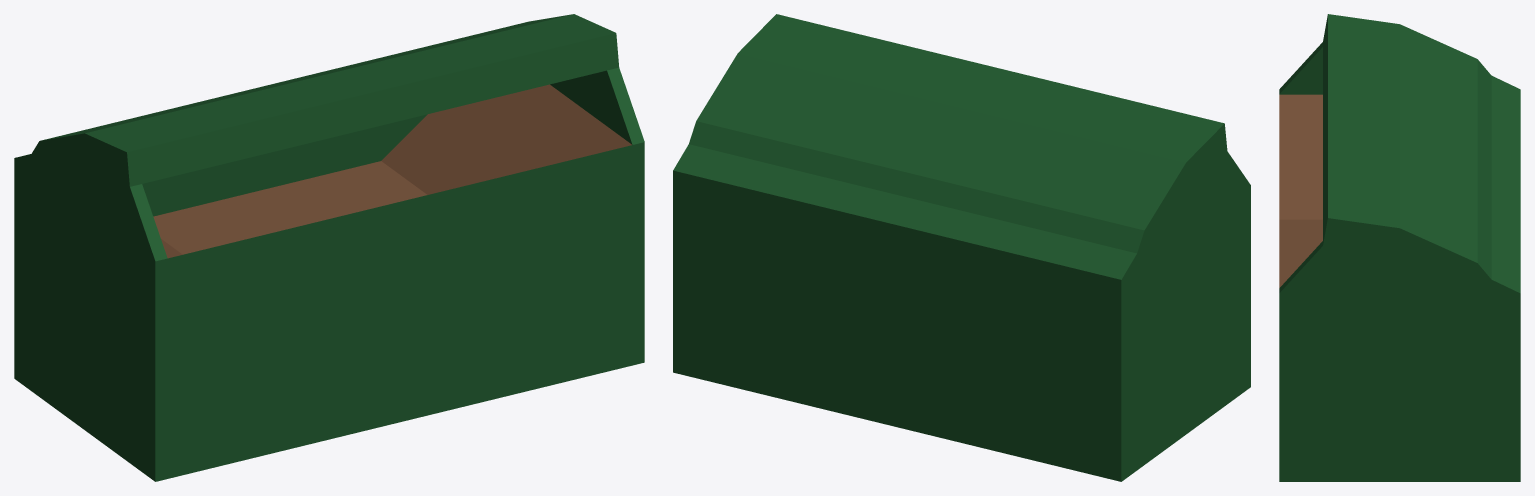
The model's file is Double bin.fbx.
3 renders of one model, left to right at view 1: azimuth 30°, elevation 25°; view 2: azimuth 150°, elevation 25°; view 3: azimuth 270°, elevation 25°, orthographic. The views are drawn at different scales.
Parts seen in each view (by area): view 1: Cube; view 2: Cube; view 3: Cube.
Boxes of the visible parts, left/top/right/bottom form: Cube: left=14, top=14, right=644, bottom=481; Cube: left=673, top=14, right=1250, bottom=481; Cube: left=1279, top=14, right=1520, bottom=481.
Bounding box in the file's own units: 400 × 241 × 200.
